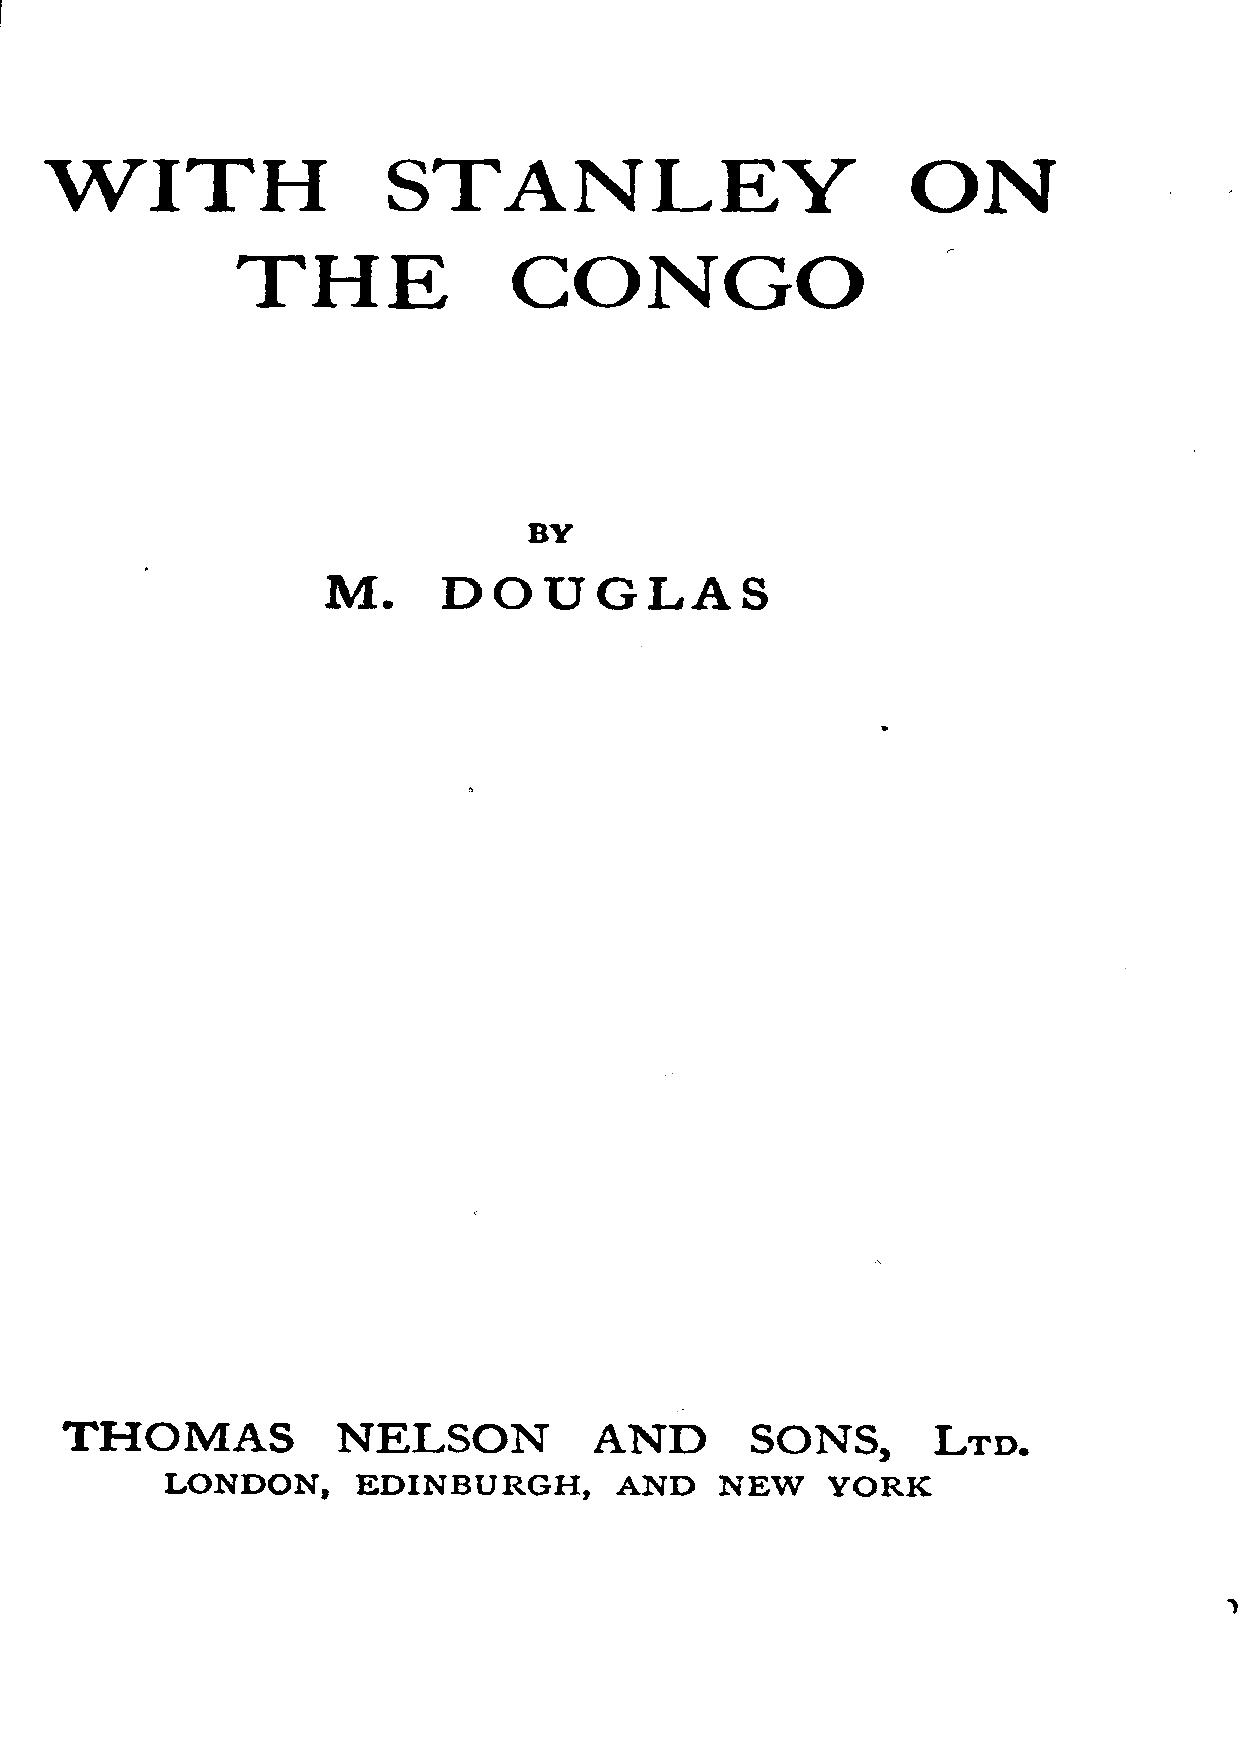author: (319, 519, 768, 613)
title: (36, 156, 1056, 310)
